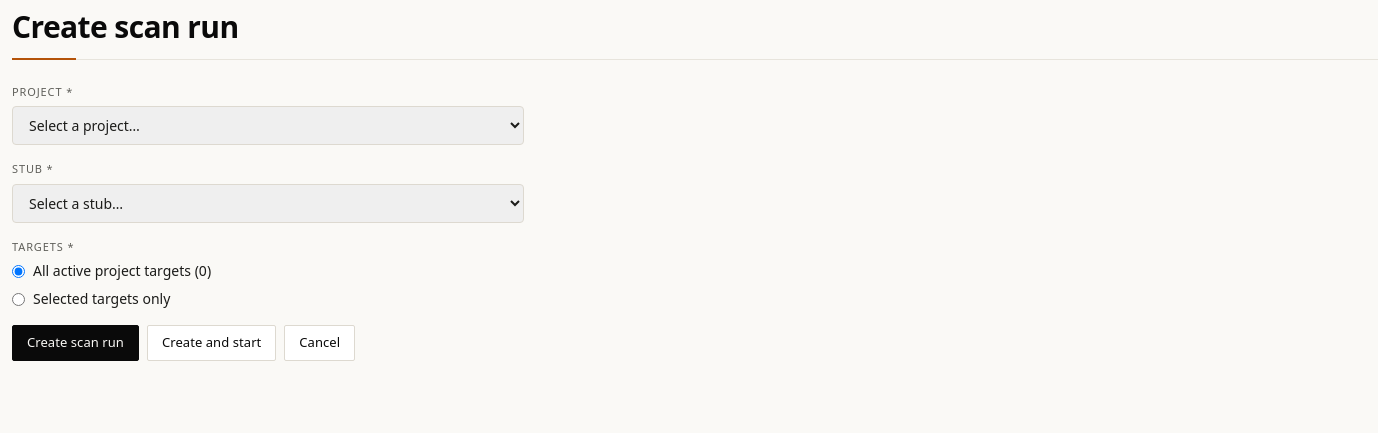
Test: CreateScanRun — validation › blocks submit when 'selected only' is on and no targets are checked
Select "Local Lab" in the dropdown labelled "Project *" at x=268, y=126, box [12,106,524,145]
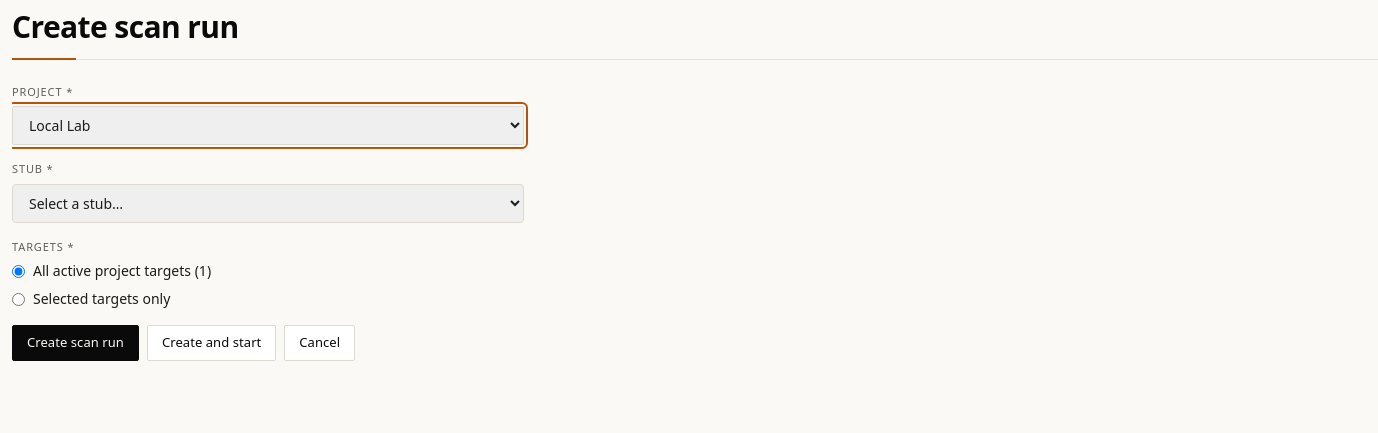
Select "1.1 · Framework detection" in the dropdown labelled "Stub *" at x=268, y=203, box [12,184,524,222]
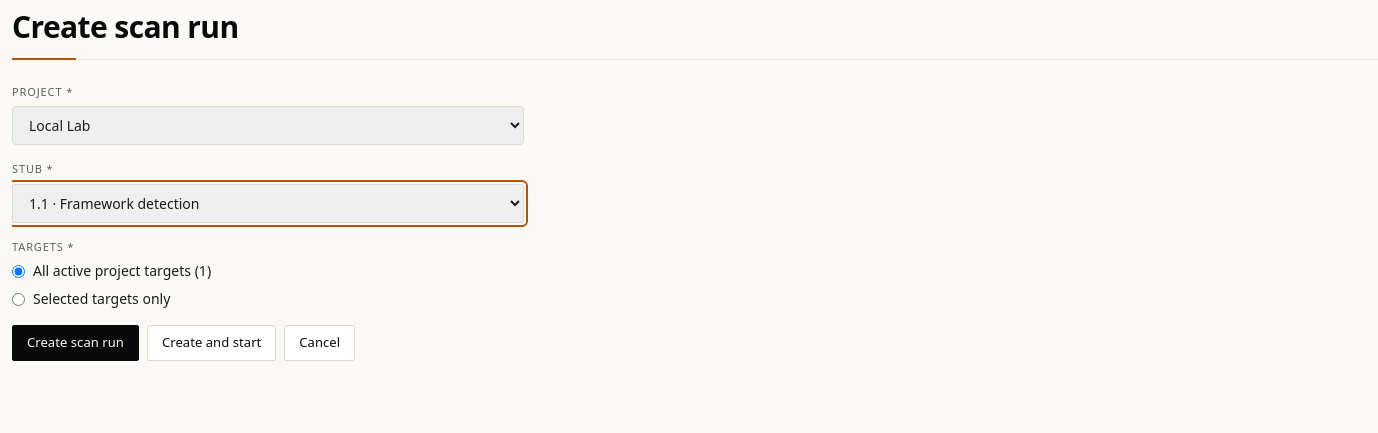
Click the radio button labelled "Selected targets only".
click(18, 299)  # box [12,292,25,306]
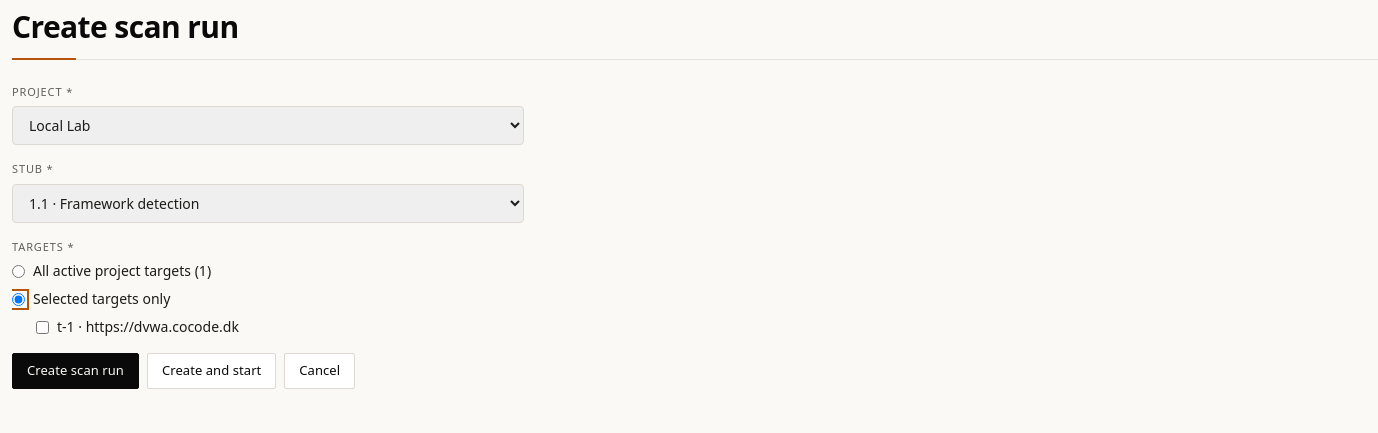
Click the button "Create scan run".
click(76, 371)  # box [12,353,139,389]
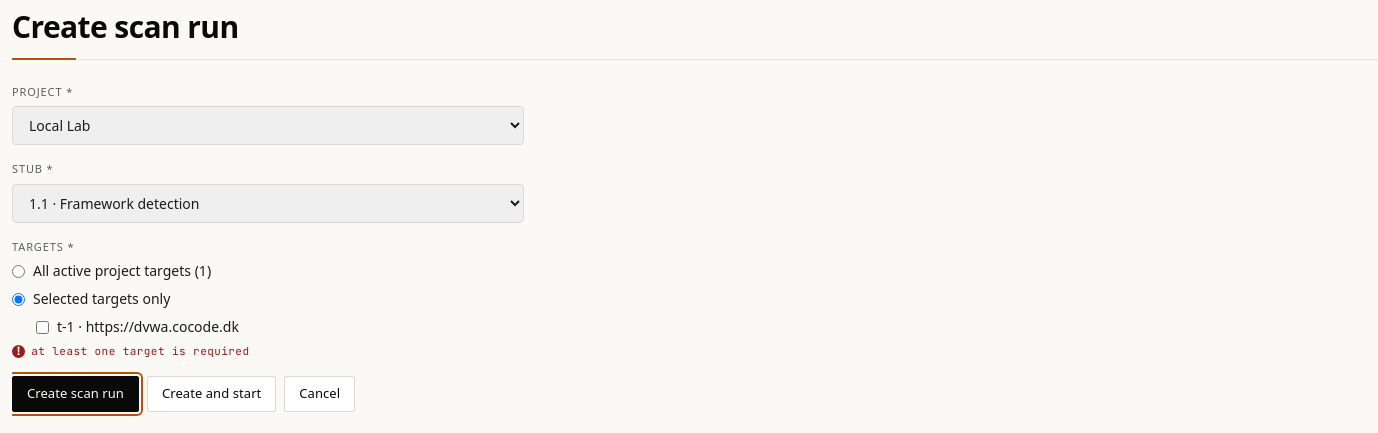
expect the text "at least one target is required" is shown: met, box [31,344,250,358]
